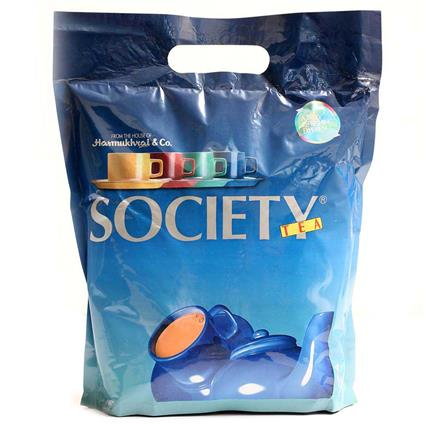society: (58, 68, 354, 414)
